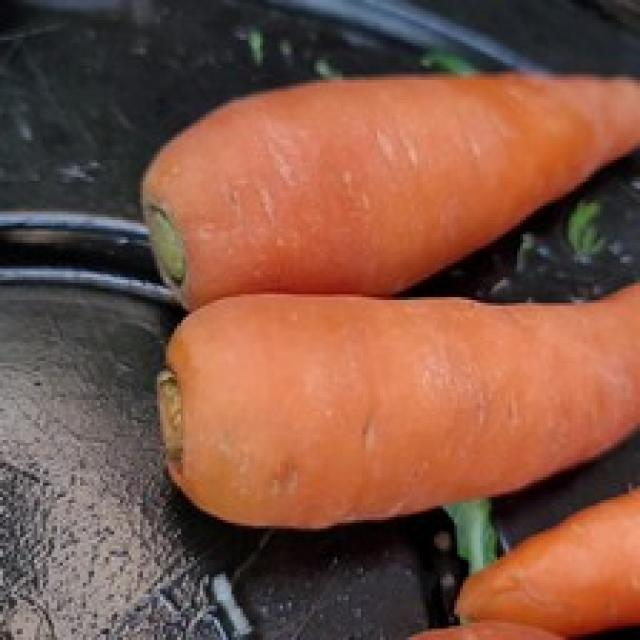carrot: (157, 280, 640, 529), (143, 71, 640, 294)
